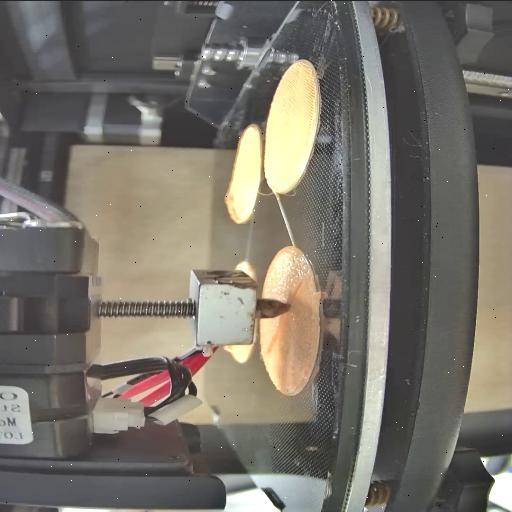over_extrusion: (213, 186, 257, 230), (262, 310, 294, 356), (284, 280, 308, 306), (222, 344, 236, 352)
